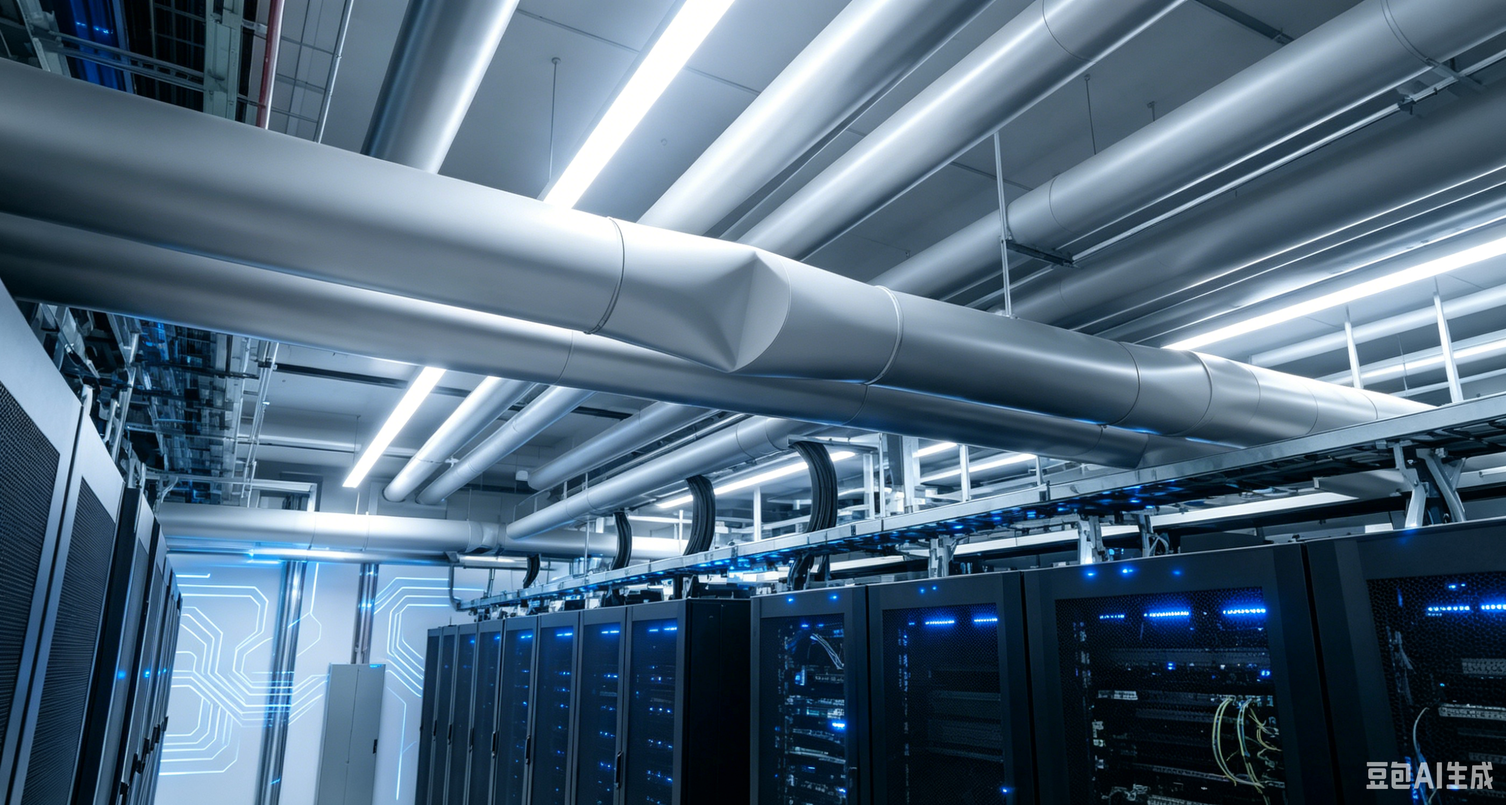Leakage: (671, 231, 805, 371)
